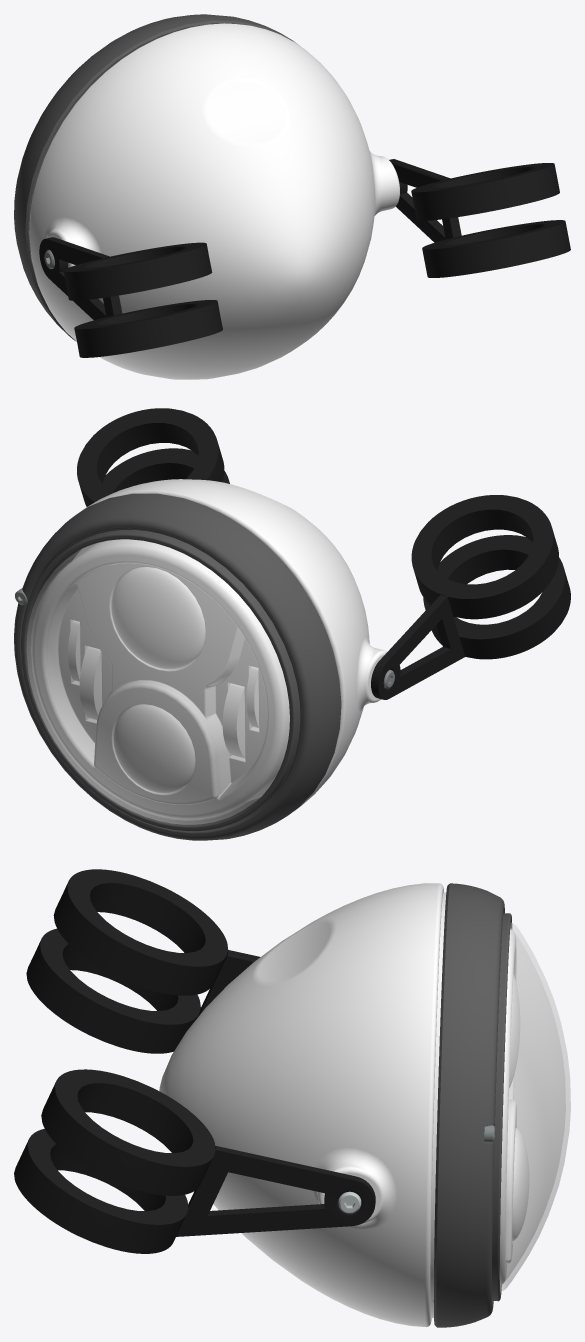
File: linterna_mano.obj
The picture shows the model from 3 angles, top to bottom: view 1: azimuth 30°, elevation 25°; view 2: azimuth 150°, elevation 25°; view 3: azimuth 270°, elevation 25°; orthographic projection. The views are drawn at different scales.
Parts seen in each view (by area): view 1: Object_8, Object_4, Object_10; view 2: Object_16, Object_18, Object_4, Object_10, Object_8, Object_12, Object_30, Object_32, Object_24, Object_28, Object_26, Object_22; view 3: Object_8, Object_4, Object_10, Object_16, Object_18, Object_12, Object_32, Object_30.
Boxes of the visible parts, left/top/right/bottom form: Object_8: left=29, top=23, right=399, bottom=379; Object_4: left=39, top=159, right=570, bottom=357; Object_10: left=14, top=14, right=296, bottom=341; Object_16: left=26, top=539, right=289, bottom=824; Object_18: left=31, top=539, right=289, bottom=819; Object_4: left=77, top=408, right=570, bottom=699; Object_10: left=14, top=493, right=341, bottom=840; Object_8: left=73, top=479, right=386, bottom=807; Object_12: left=21, top=530, right=300, bottom=831; Object_30: left=111, top=567, right=205, bottom=669; Object_32: left=113, top=704, right=195, bottom=793; Object_24: left=222, top=683, right=245, bottom=758; Object_28: left=79, top=646, right=102, bottom=719; Object_26: left=68, top=620, right=80, bottom=681; Object_22: left=246, top=666, right=259, bottom=727; Object_8: left=159, top=883, right=446, bottom=1327; Object_4: left=14, top=869, right=375, bottom=1253; Object_10: left=433, top=883, right=504, bottom=1327; Object_16: left=500, top=923, right=570, bottom=1291; Object_18: left=499, top=929, right=516, bottom=1284; Object_12: left=492, top=913, right=512, bottom=1301; Object_32: left=512, top=1128, right=529, bottom=1240; Object_30: left=509, top=974, right=520, bottom=1087.
Bounding box in the file's own units: 2.77 × 1.91 × 2.38.
8 materials, 3 textured.
